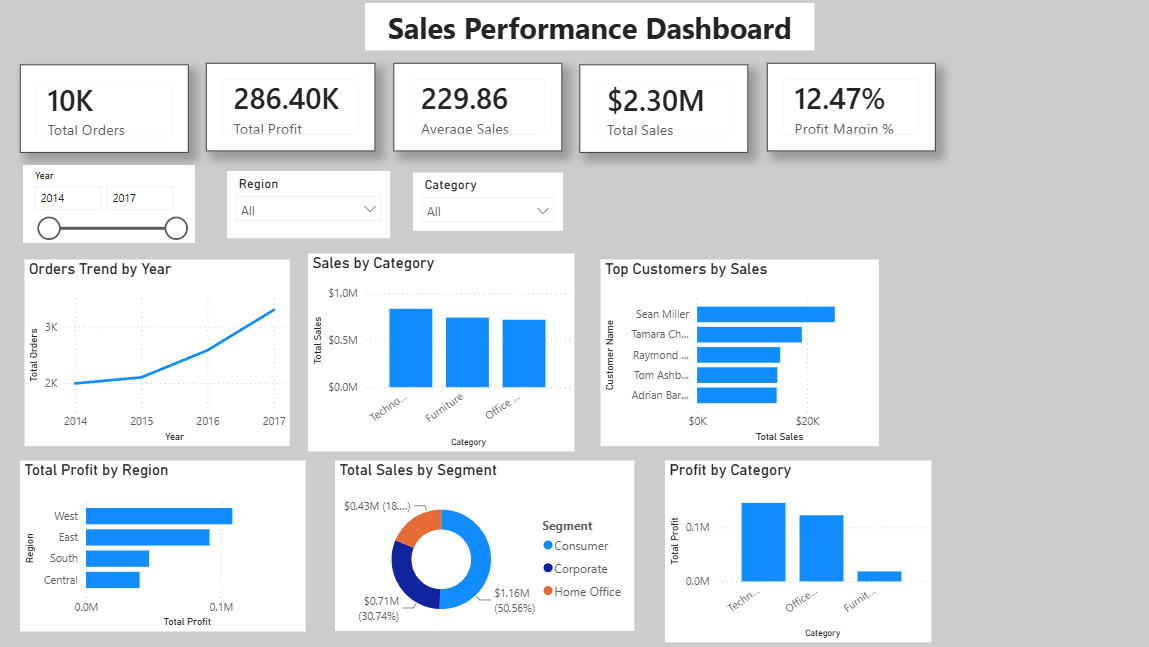

The dashboard page shown, as its layout file describes it:
{"tool":"powerbi","page":{"name":"Page 1","canvas":[1280,720],"ordinal":0},"visuals":[{"type":"cardVisual","fields":{"Data":["Superstore_Cleaned.Total Sales"]},"box":[645.6,71.6,187,98],"z":0},{"type":"cardVisual","fields":{"Data":["Superstore_Cleaned.Total Profit"]},"box":[230.8,70,187.8,98],"z":1000},{"type":"cardVisual","fields":{"Data":["Superstore_Cleaned.Total Orders"]},"box":[23.9,71.6,187,98],"z":2000},{"type":"cardVisual","fields":{"Data":["Superstore_Cleaned.Average Sales"]},"box":[438.6,70,187,98],"z":3000},{"type":"cardVisual","fields":{"Data":["Superstore_Cleaned.Profit Margin %"]},"box":[852.6,70,187,98],"z":4000},{"type":"lineChart","title":"Orders Trend by Year","fields":{"Category":["Superstore_Cleaned.Order Date.Variation.Date Hierarchy.Year","Superstore_Cleaned.Order Date.Variation.Date Hierarchy.Quarter","Superstore_Cleaned.Order Date.Variation.Date Hierarchy.Month","Superstore_Cleaned.Order Date.Variation.Date Hierarchy.Day"],"Y":["Superstore_Cleaned.Total Orders"]},"box":[27.5,288.2,294.7,207.3],"z":5000},{"type":"clusteredColumnChart","title":"Sales by Category","fields":{"Category":["Superstore_Cleaned.Category"],"Y":["Superstore_Cleaned.Total Sales"]},"box":[343.3,281.7,296.3,220.2],"z":6000},{"type":"clusteredBarChart","fields":{"Y":["Superstore_Cleaned.Total Profit"],"Category":["Superstore_Cleaned.Region"]},"box":[23.9,512.2,317,190],"z":7000},{"type":"donutChart","fields":{"Category":["Superstore_Cleaned.Segment"],"Y":["Superstore_Cleaned.Total Sales"]},"box":[374,512.2,332.4,189.3],"z":8000},{"type":"clusteredBarChart","title":"Top Customers by Sales","fields":{"Category":["Superstore_Cleaned.Customer Name"],"Y":["Superstore_Cleaned.Total Sales"]},"box":[668.7,288.2,309.3,207.3],"z":9000},{"type":"textbox","box":[407.2,3.2,499.5,52.5],"z":10000},{"type":"slicer","fields":{"Values":["Superstore_Cleaned.Year"]},"box":[27,182.9,190.9,85.9],"z":11000},{"type":"slicer","fields":{"Values":["Superstore_Cleaned.Region"]},"box":[252.9,189.3,181.4,74.5],"z":12000},{"type":"slicer","fields":{"Values":["Superstore_Cleaned.Category"]},"box":[459.7,192.5,166.8,64.8],"z":13000},{"type":"clusteredColumnChart","title":"Profit by Category","fields":{"Category":["Superstore_Cleaned.Category"],"Y":["Superstore_Cleaned.Total Profit"]},"box":[739.6,512.2,295.9,202],"z":13001}]}

Visuals, with their boxes in screenshot pixels (x1, y1, x2, y2), scaled from the page's 1280x720 canvas onto the 1149x647 screenshot:
cardVisual - Superstore_Cleaned.Total Sales: x1=580 y1=64 x2=747 y2=152
cardVisual - Superstore_Cleaned.Total Profit: x1=207 y1=63 x2=376 y2=151
cardVisual - Superstore_Cleaned.Total Orders: x1=21 y1=64 x2=189 y2=152
cardVisual - Superstore_Cleaned.Average Sales: x1=394 y1=63 x2=562 y2=151
cardVisual - Superstore_Cleaned.Profit Margin %: x1=765 y1=63 x2=933 y2=151
"Orders Trend by Year" lineChart: x1=25 y1=259 x2=289 y2=445
"Sales by Category" clusteredColumnChart: x1=308 y1=253 x2=574 y2=451
clusteredBarChart - Superstore_Cleaned.Total Profit x Superstore_Cleaned.Region: x1=21 y1=460 x2=306 y2=631
donutChart - Superstore_Cleaned.Segment x Superstore_Cleaned.Total Sales: x1=336 y1=460 x2=634 y2=630
"Top Customers by Sales" clusteredBarChart: x1=600 y1=259 x2=878 y2=445
textbox: x1=366 y1=3 x2=814 y2=50
slicer - Superstore_Cleaned.Year: x1=24 y1=164 x2=196 y2=242
slicer - Superstore_Cleaned.Region: x1=227 y1=170 x2=390 y2=237
slicer - Superstore_Cleaned.Category: x1=413 y1=173 x2=562 y2=231
"Profit by Category" clusteredColumnChart: x1=664 y1=460 x2=930 y2=642
